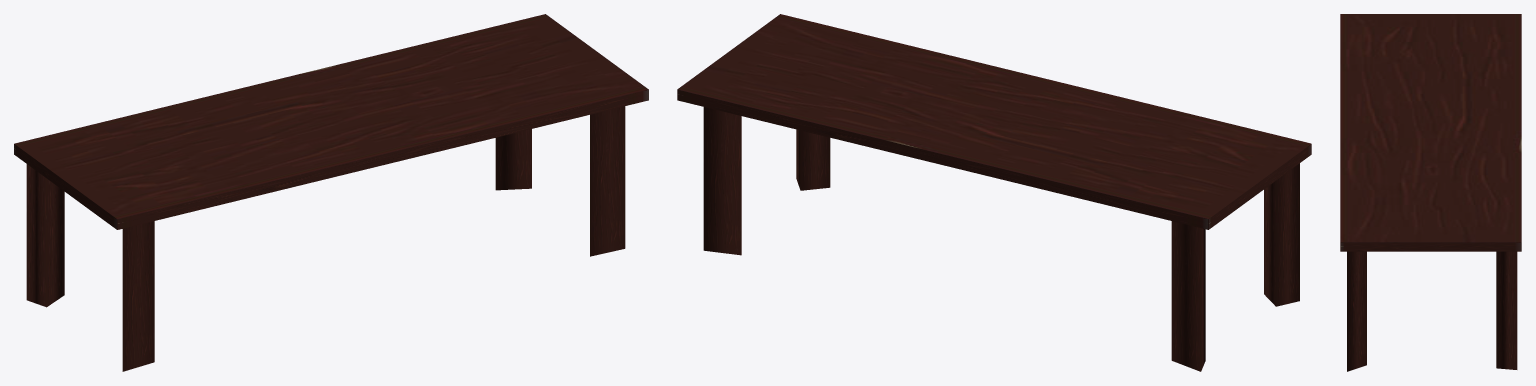
File: table.FBX
3 renders of one model, left to right at view 1: azimuth 30°, elevation 25°; view 2: azimuth 150°, elevation 25°; view 3: azimuth 270°, elevation 25°, orthographic. The views are drawn at different scales.
Parts seen in each view (by area): view 1: Box005, Cylinder005, Cylinder003, Cylinder004, Cylinder006; view 2: Box005, Cylinder006, Cylinder003, Cylinder004, Cylinder005; view 3: Box005, Cylinder006, Cylinder005.
Part boxes in pixels (<box>): Box005: <box>14,14,648,229</box>; Cylinder005: <box>590,106,625,256</box>; Cylinder003: <box>26,164,64,307</box>; Cylinder004: <box>122,221,154,371</box>; Cylinder006: <box>495,129,531,190</box>; Box005: <box>677,14,1311,229</box>; Cylinder006: <box>703,107,741,255</box>; Cylinder003: <box>1171,221,1205,371</box>; Cylinder004: <box>1264,163,1299,306</box>; Cylinder005: <box>796,129,830,190</box>; Box005: <box>1340,14,1521,251</box>; Cylinder006: <box>1496,251,1517,369</box>; Cylinder005: <box>1347,251,1366,371</box>.
Size of the model in its own units: 217 by 61.24 by 72.89.
